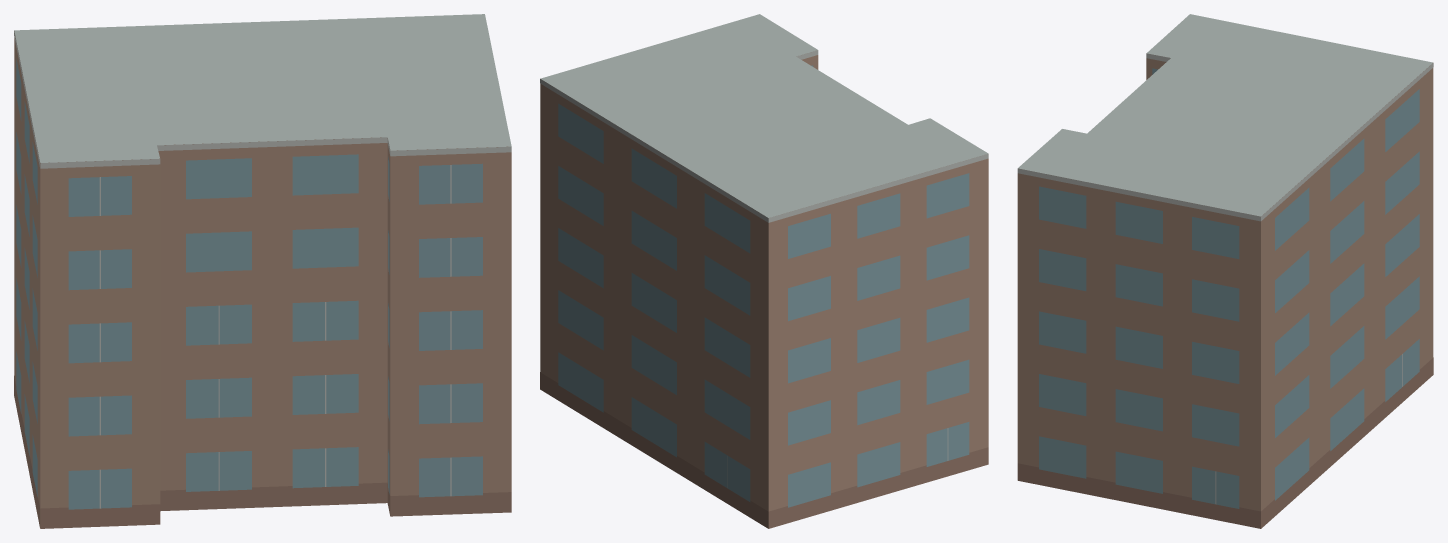
File: survey-upis-32632730.glb
3 renders of one model, left to right at view 1: azimuth 30°, elevation 25°; view 2: azimuth 150°, elevation 25°; view 3: azimuth 270°, elevation 25°, orthographic. The views are drawn at different scales.
Visible parts, largest first — view 1: survey-upis-32632730.tmp; view 2: survey-upis-32632730.tmp; view 3: survey-upis-32632730.tmp.
Part boxes in pixels (bbox=[...]): survey-upis-32632730.tmp: bbox=[14, 14, 511, 528]; survey-upis-32632730.tmp: bbox=[540, 14, 988, 528]; survey-upis-32632730.tmp: bbox=[1017, 14, 1433, 528].
Size of the model in its own units: 21.85 by 15.7 by 18.95.
